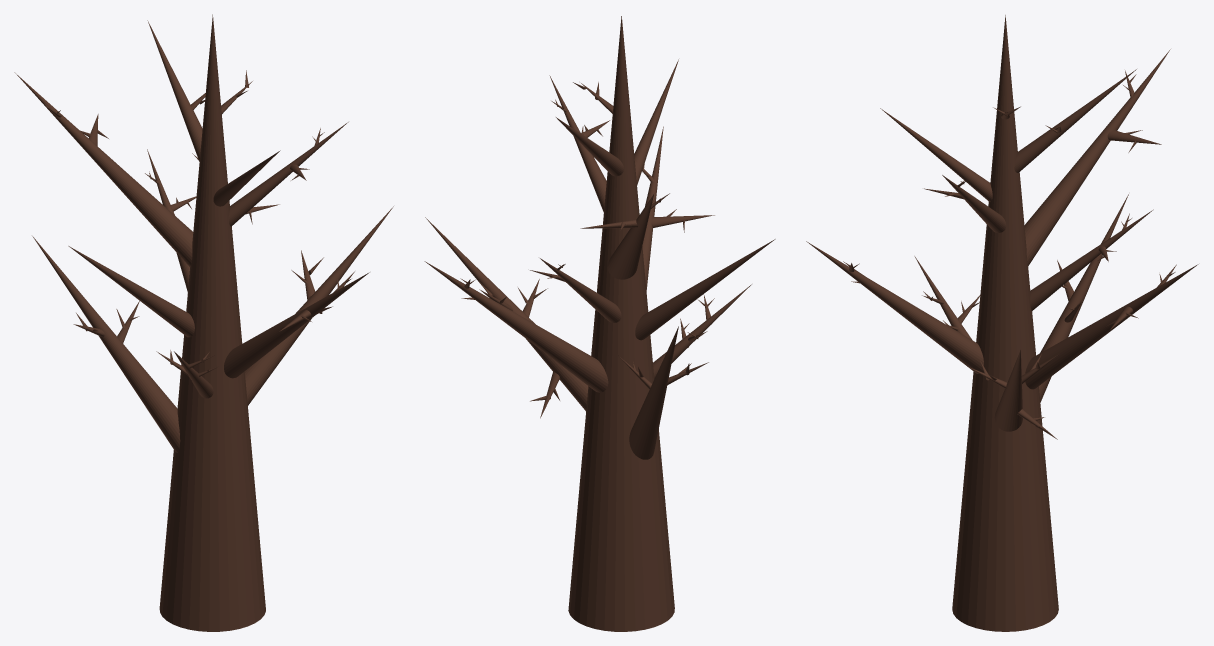
The model's file is automntree.fbx.
3 renders of one model, left to right at view 1: azimuth 30°, elevation 25°; view 2: azimuth 150°, elevation 25°; view 3: azimuth 270°, elevation 25°, orthographic.
Visible parts, largest first — view 1: Cylinder, Cylinder.032, Cylinder.020, Cylinder.022, Cylinder.063, Cylinder.012, Cylinder.036, Cylinder.002, Cylinder.052; view 2: Cylinder, Cylinder.005, Cylinder.020, Cylinder.012, Cylinder.022, Cylinder.032, Cylinder.013, Cylinder.036, Cylinder.052, Cylinder.063, Cylinder.002, Cylinder.042; view 3: Cylinder, Cylinder.032, Cylinder.063, Cylinder.005, Cylinder.020, Cylinder.013, Cylinder.002, Cylinder.022, Cylinder.052, Cylinder.036.
Boxes of the visible parts, x1,y1,x2,y2 form: Cylinder: (159,14,265,631); Cylinder.032: (14,72,193,267); Cylinder.020: (32,236,180,452); Cylinder.022: (244,206,393,405); Cylinder.063: (224,272,369,378); Cylinder.012: (68,246,194,337); Cylinder.036: (229,122,348,226); Cylinder.002: (147,20,202,161); Cylinder.052: (213,150,280,206); Cylinder: (568,16,674,631); Cylinder.005: (424,261,608,392); Cylinder.020: (629,326,678,459); Cylinder.012: (635,239,775,340); Cylinder.022: (425,217,588,411); Cylinder.032: (607,194,653,279); Cylinder.013: (540,258,621,322); Cylinder.036: (549,75,606,212); Cylinder.052: (634,59,678,185); Cylinder.063: (642,126,663,290); Cylinder.002: (556,117,623,176); Cylinder.042: (653,284,751,378); Cylinder: (952,15,1058,631); Cylinder.032: (1024,49,1170,265); Cylinder.063: (806,241,983,373); Cylinder.005: (1025,264,1198,389); Cylinder.020: (1039,194,1128,402); Cylinder.013: (1030,209,1153,310); Cylinder.002: (1014,69,1136,172); Cylinder.022: (994,350,1022,431); Cylinder.052: (880,108,992,201); Cylinder.036: (942,175,1006,232).
Bounding box in the file's own units: 203 × 340 × 204.
